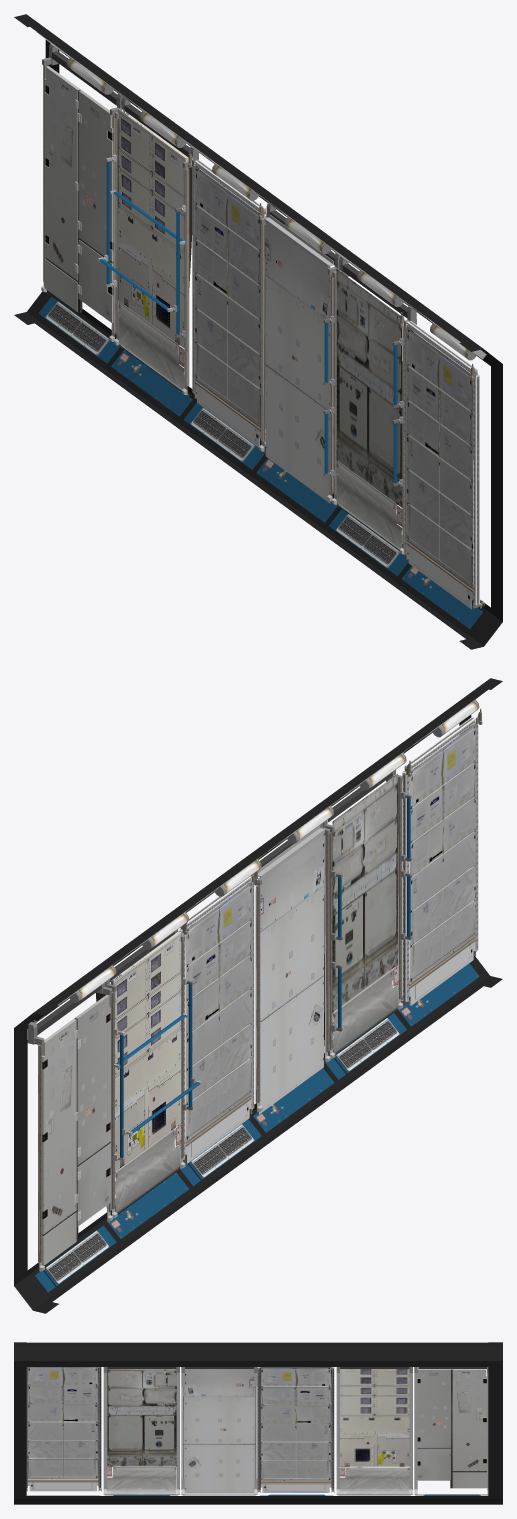
The model's file is US_Lab_PortReduction.C.obj.
3 renders of one model, top to bottom at view 1: azimuth 30°, elevation 25°; view 2: azimuth 150°, elevation 25°; view 3: azimuth 270°, elevation 25°, orthographic. The views are drawn at different scales.
Size of the model in its own units: 0.2764 by 2.42 by 6.72.
29 materials, 15 textured.
